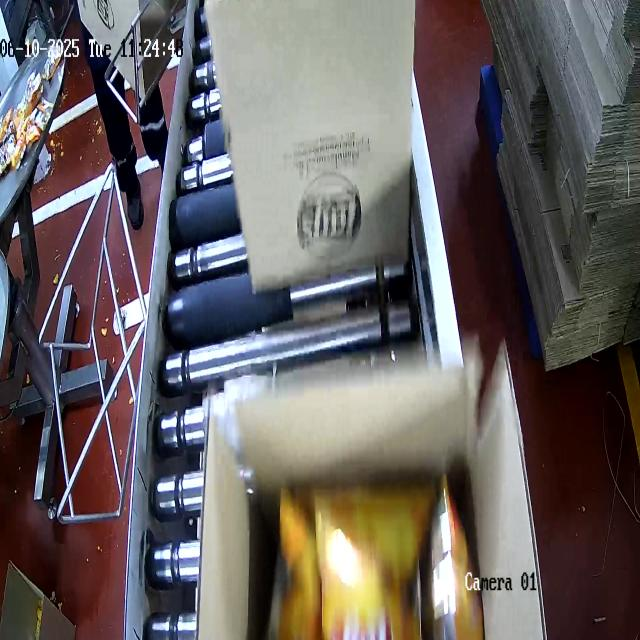FRENCH_CHEESE: (231, 418, 490, 640)
